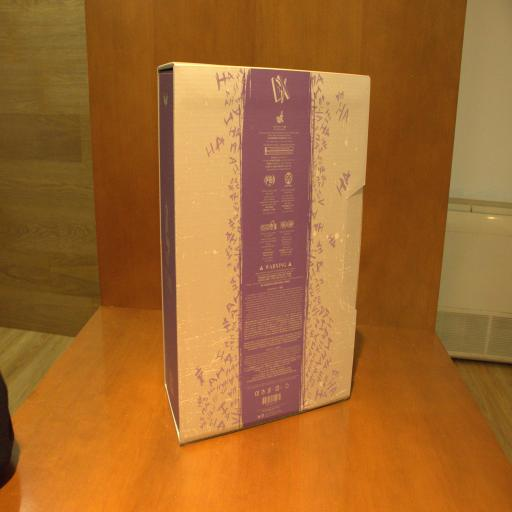Joker: (154, 64, 372, 448)
